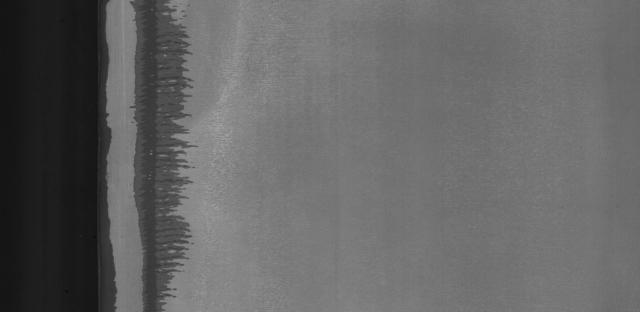oil_spot: (124, 3, 220, 308)
